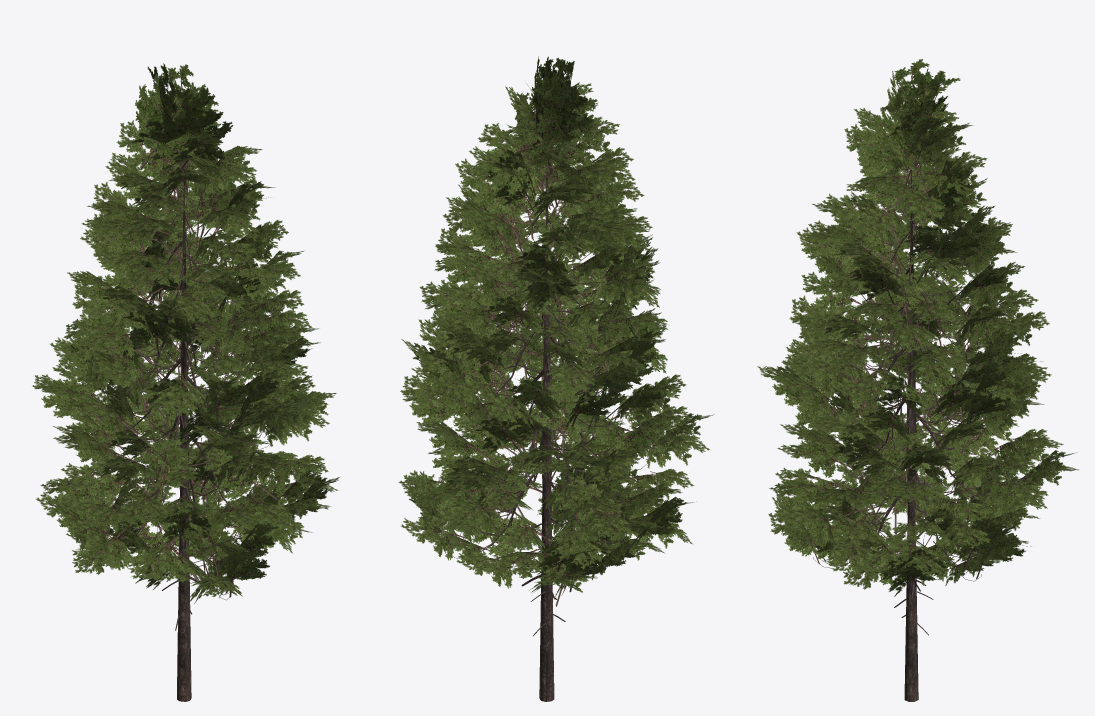
File: fir_tree.glb
The picture shows the model from 3 angles, left to right: view 1: azimuth 30°, elevation 25°; view 2: azimuth 150°, elevation 25°; view 3: azimuth 270°, elevation 25°; orthographic projection. The views are drawn at different scales.
Visible parts, largest first — view 1: Object_4; view 2: Object_4; view 3: Object_4.
Part boxes in pixels (x1,y1,x2,y2): Object_4: [32, 63, 339, 701]; Object_4: [398, 56, 713, 701]; Object_4: [757, 59, 1078, 701].
Size of the model in its own units: 8.22 by 17.62 by 8.25.
2 materials, 2 textured.
